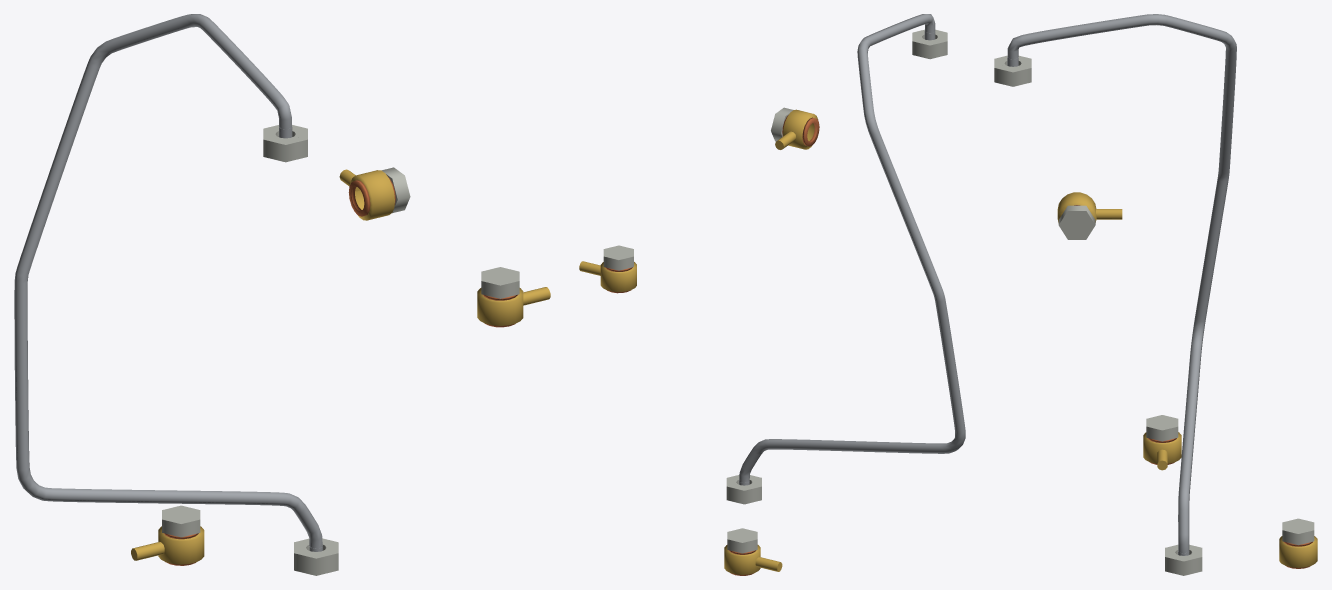
Rendered from wur-lines.glb.
The picture shows the model from 3 angles, left to right: view 1: azimuth 30°, elevation 25°; view 2: azimuth 150°, elevation 25°; view 3: azimuth 270°, elevation 25°; orthographic projection. The views are drawn at different scales.
Parts seen in each view (by area): view 1: wur-lines:steel, wur-lines:zincPlate, wur-lines:brass, wur-lines:copper; view 2: wur-lines:steel, wur-lines:zincPlate, wur-lines:brass, wur-lines:copper; view 3: wur-lines:steel, wur-lines:zincPlate, wur-lines:brass.
Part boxes in pixels (x1,y1,x2,y2): wur-lines:steel: (14,14,322,551); wur-lines:zincPlate: (162,125,519,575); wur-lines:brass: (131,169,550,564); wur-lines:copper: (164,176,517,565); wur-lines:steel: (739,14,965,485); wur-lines:zincPlate: (603,29,947,553); wur-lines:brass: (579,109,818,574); wur-lines:copper: (605,115,819,575); wur-lines:steel: (1007,14,1236,555); wur-lines:zincPlate: (994,55,1314,575); wur-lines:brass: (1057,192,1317,567).
Size of the model in its own units: 183 by 215 by 121.
